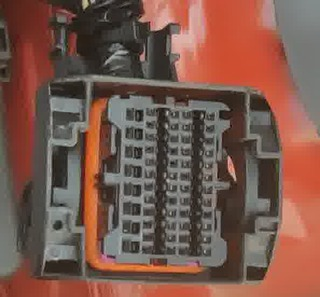connector: (30, 75, 283, 285)
